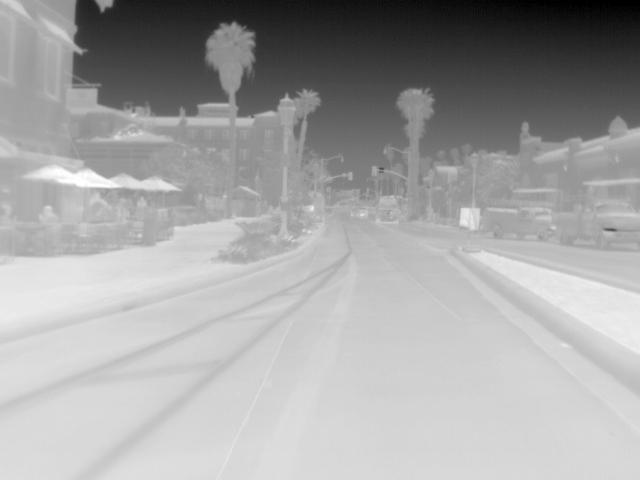car: (552, 197, 640, 248), (483, 203, 557, 240), (374, 195, 402, 223), (349, 206, 368, 220)
person: (88, 191, 113, 212), (38, 204, 60, 225), (1, 205, 19, 224), (131, 195, 150, 210)
